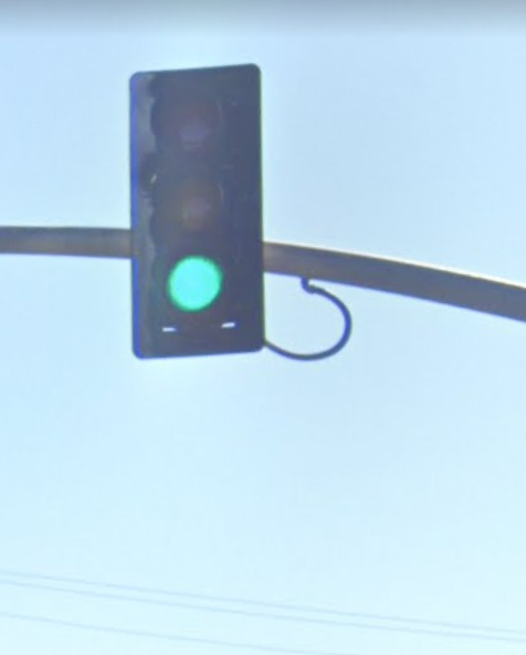green_light: (139, 73, 256, 345)
